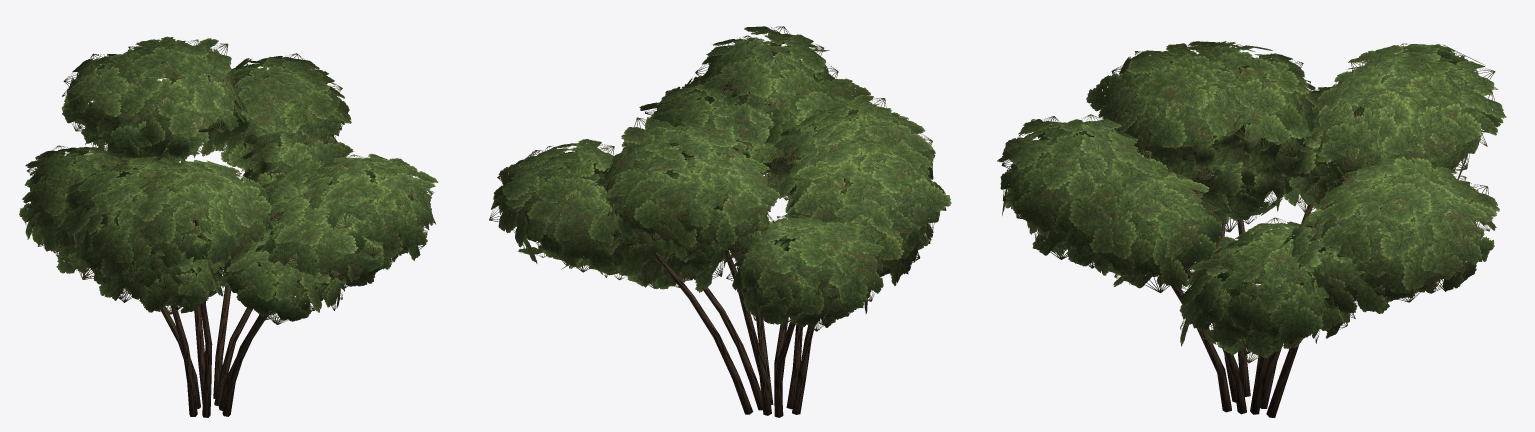
The model's file is goran_a.glb.
The picture shows the model from 3 angles, left to right: view 1: azimuth 30°, elevation 25°; view 2: azimuth 150°, elevation 25°; view 3: azimuth 270°, elevation 25°; orthographic projection. The views are drawn at different scales.
Visible parts, largest first — view 1: leaves, wood; view 2: leaves, wood; view 3: leaves, wood.
Part boxes in pixels (<box>): leaves: <box>19,36,438,324</box>; wood: <box>160,159,365,417</box>; leaves: <box>489,26,951,331</box>; wood: <box>636,178,863,417</box>; leaves: <box>997,41,1506,363</box>; wood: <box>1171,174,1355,417</box>.
Size of the model in its own units: 3.34 by 2.87 by 3.64.
Materials: 2 (2 with a texture image).
